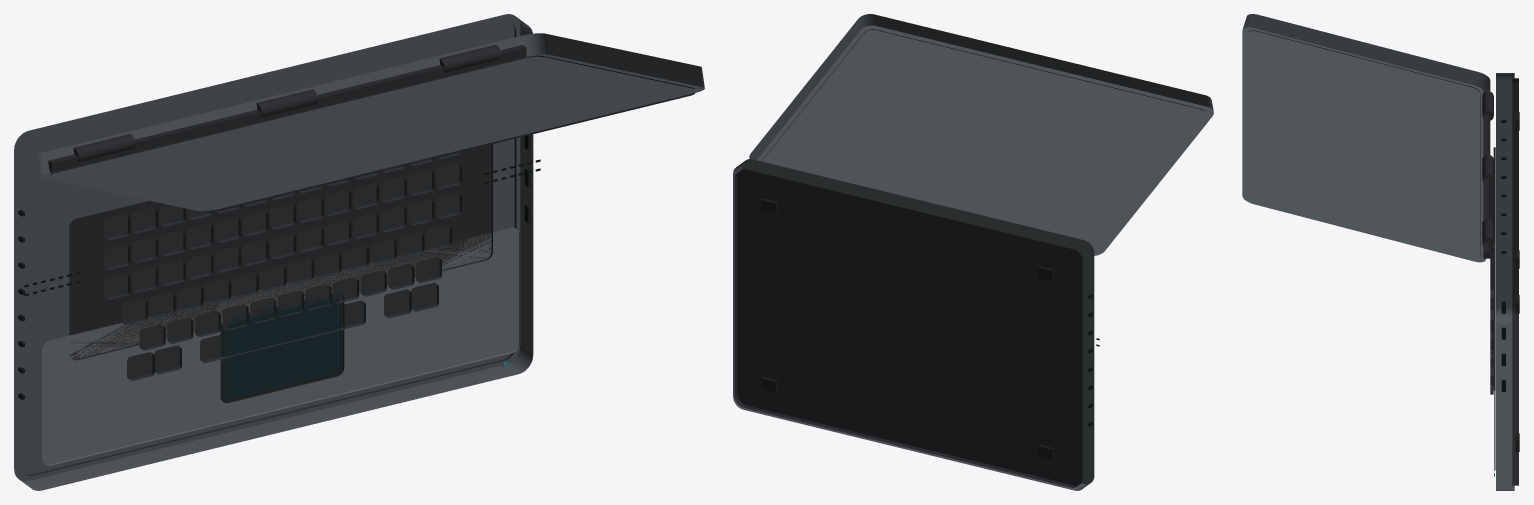
The model's file is laptop.glb.
3 views of the same model, side by side, from view 1: azimuth 30°, elevation 25°; view 2: azimuth 150°, elevation 25°; view 3: azimuth 270°, elevation 25° (orthographic). The views are drawn at different scales.
Parts seen in each view (by area): view 1: Display_Back_Housing, Laptop_Base_Chassis, Palm_Rest_Deck, Keyboard_Recess, Trackpad_Surface, Hinge_Cover, Display_Bezel, Trackpad, Laptop_Bottom_Plate, Spacebar, Hinge_4.7, Hinge_-4.7 (+1 smaller); view 2: Laptop_Bottom_Plate, Display_Back_Housing, Laptop_Base_Chassis, Display_Bezel; view 3: Display_Back_Housing, Laptop_Base_Chassis, Laptop_Bottom_Plate, Keyboard_Recess, Hinge_Cover, Display_Bezel.
Boxes of the visible parts, box(x1,y1,x2,y2) form: Display_Back_Housing: box(37, 33, 704, 211); Laptop_Base_Chassis: box(14, 14, 533, 490); Palm_Rest_Deck: box(42, 227, 519, 465); Keyboard_Recess: box(69, 144, 492, 360); Trackpad_Surface: box(225, 297, 340, 398); Hinge_Cover: box(48, 45, 526, 172); Display_Bezel: box(50, 55, 695, 212); Trackpad: box(220, 292, 344, 403); Laptop_Bottom_Plate: box(25, 23, 516, 475); Spacebar: box(200, 300, 365, 363); Hinge_4.7: box(439, 45, 500, 72); Hinge_-4.7: box(73, 134, 134, 161); Laptop_Bottom_Plate: box(735, 169, 1082, 487); Display_Back_Housing: box(749, 14, 1213, 255); Laptop_Base_Chassis: box(733, 159, 1094, 490); Display_Bezel: box(762, 29, 1206, 160); Display_Back_Housing: box(1242, 14, 1490, 262); Laptop_Base_Chassis: box(1496, 73, 1514, 490); Laptop_Bottom_Plate: box(1512, 78, 1518, 485); Keyboard_Recess: box(1493, 147, 1495, 390); Hinge_Cover: box(1483, 86, 1490, 258); Display_Bezel: box(1249, 30, 1480, 256).
Size of the model in its own units: 13.25 by 10.57 by 8.64.
